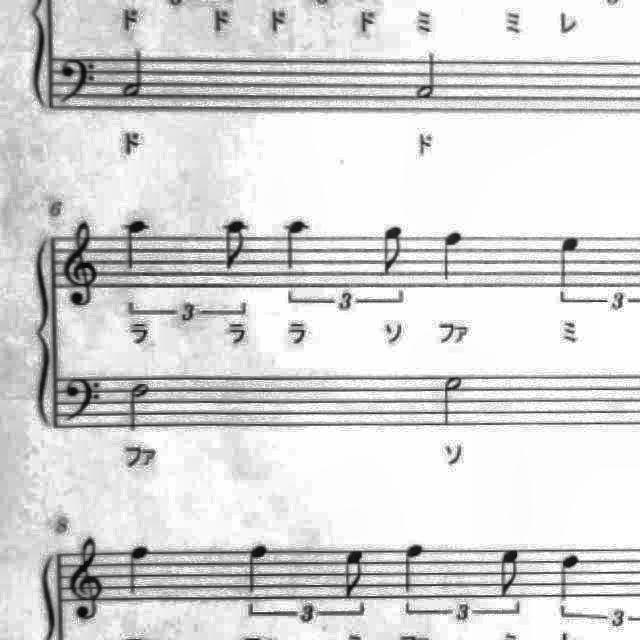Bass-clef: (55, 52, 103, 112), (60, 369, 108, 426)
Eighth-note: (214, 216, 253, 280), (372, 222, 408, 282), (337, 545, 371, 603), (494, 543, 526, 601)
Half-note: (122, 376, 158, 436), (116, 45, 152, 103), (410, 48, 446, 104), (438, 368, 470, 430)
Quarter-note: (119, 215, 157, 278), (552, 229, 588, 295), (434, 225, 470, 288), (278, 213, 314, 274), (550, 546, 586, 606), (122, 541, 156, 599), (240, 540, 274, 596), (398, 540, 429, 596)
Treble-clef: (64, 532, 112, 626), (57, 215, 103, 312)
